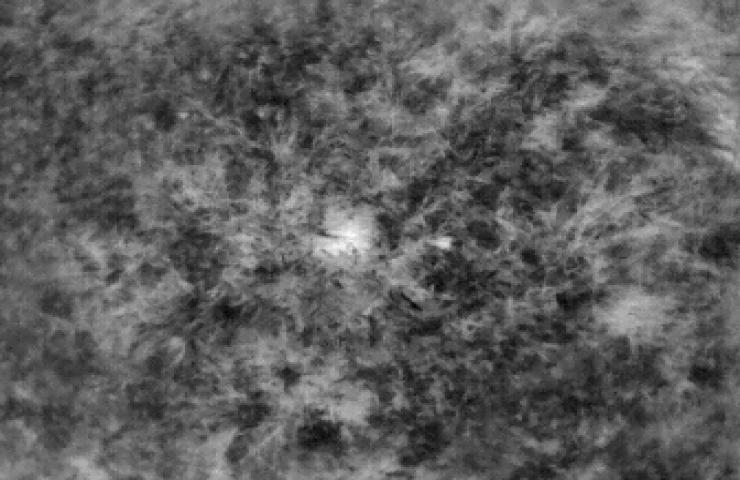landmines: (319, 220, 380, 264)
